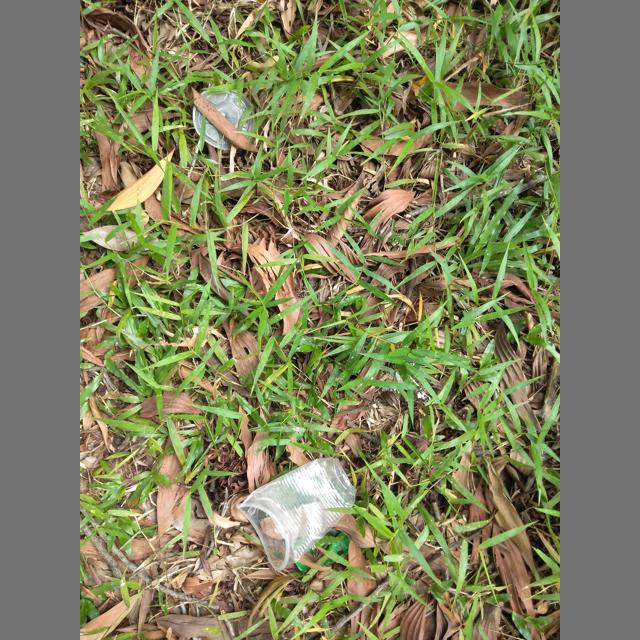litter: (235, 458, 357, 571), (193, 90, 255, 150), (295, 538, 350, 574)
